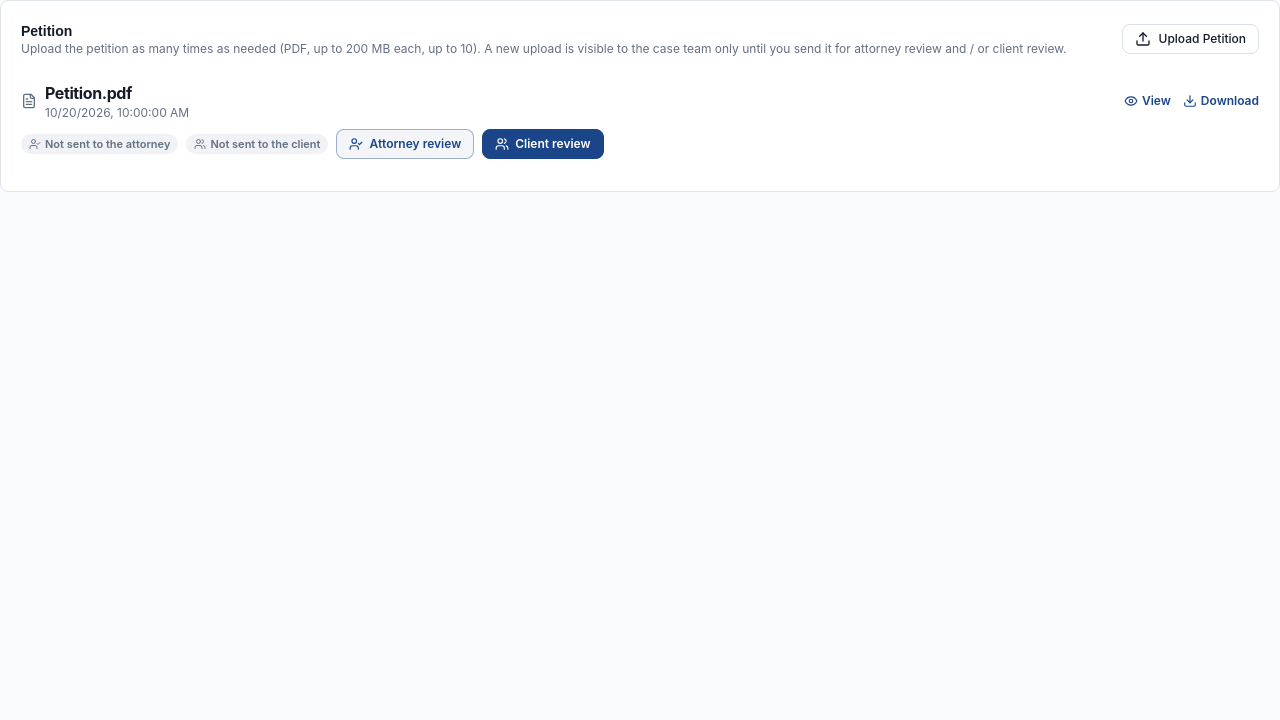
Test case: PetitionUploadPanel › attorney review: asks first in the app's own centred dialog, sends for that petition, reports how many attorneys were told; nothing is sent when the case manage
Click the button "Attorney review".
click(405, 144)  # box [336,129,474,159]
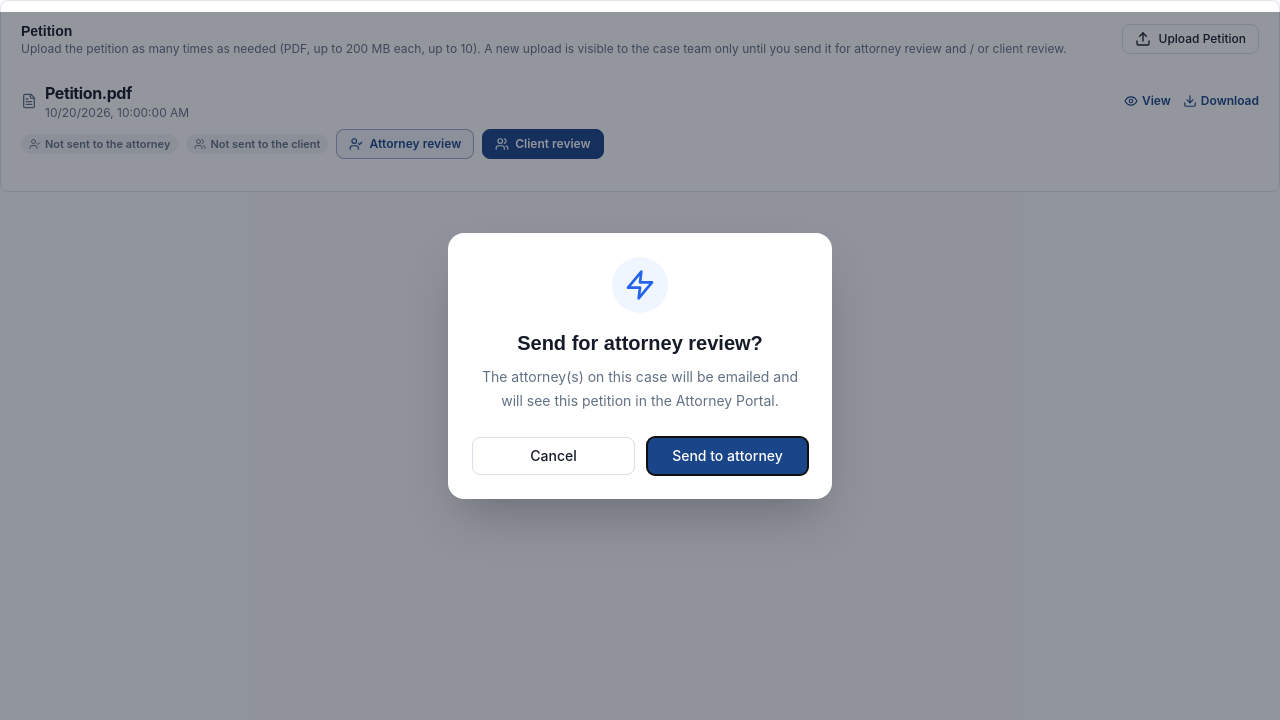
Expected: the heading "Send for attorney review?" is shown, [517,332,763,354]
Click the button "Cancel".
click(554, 456)  # box [472,437,635,475]
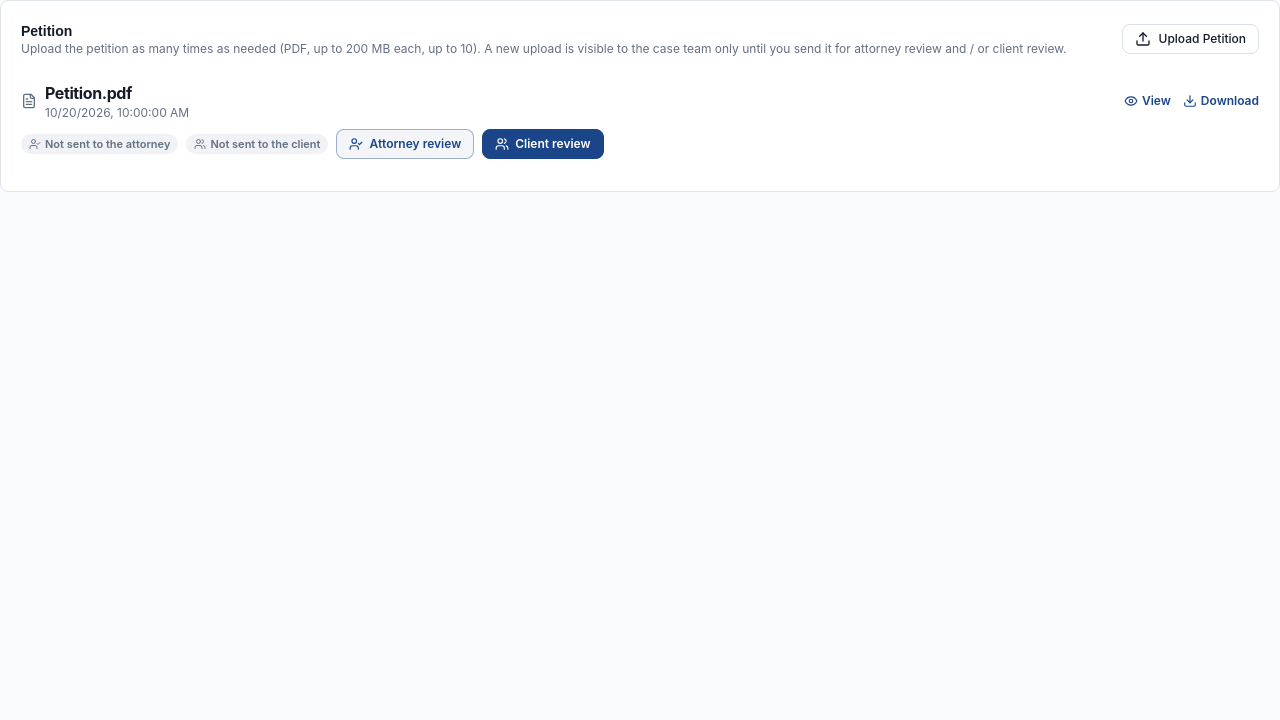
Expected: the dialog is gone
Click the button "Attorney review".
click(405, 144)  # box [336,129,474,159]
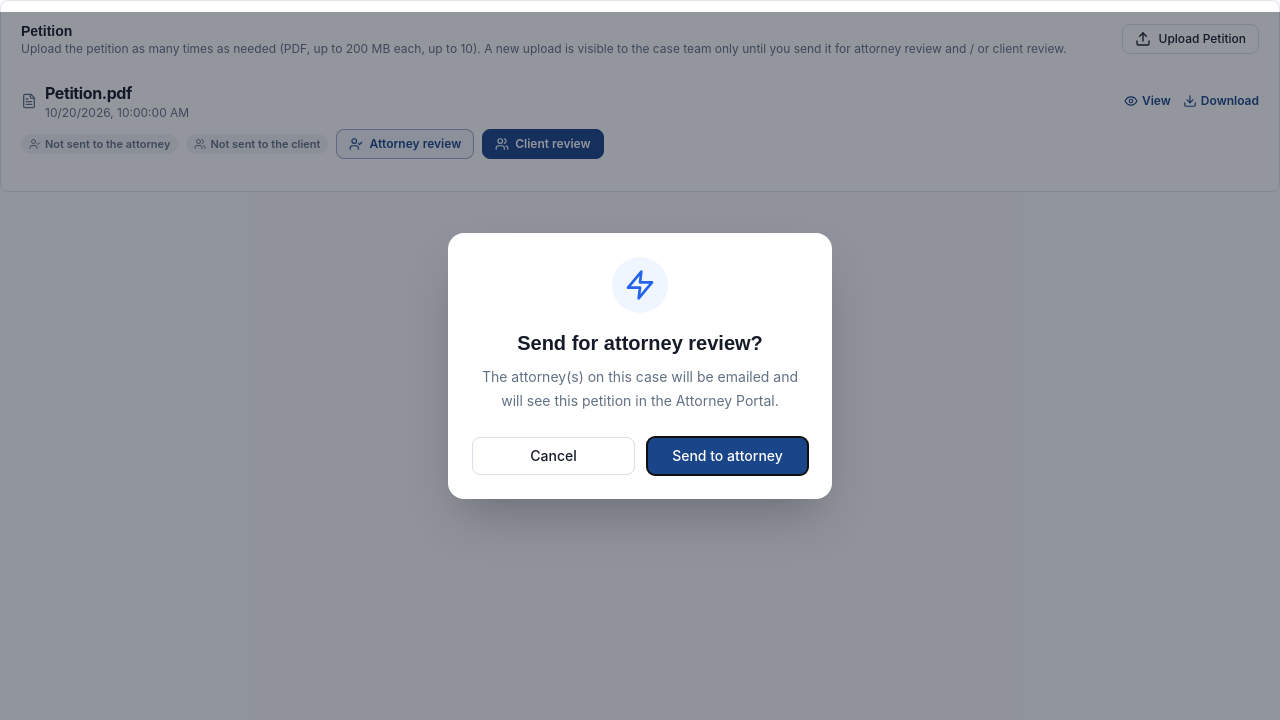
Click the button "Send to attorney".
click(728, 456)  # box [647,437,808,475]
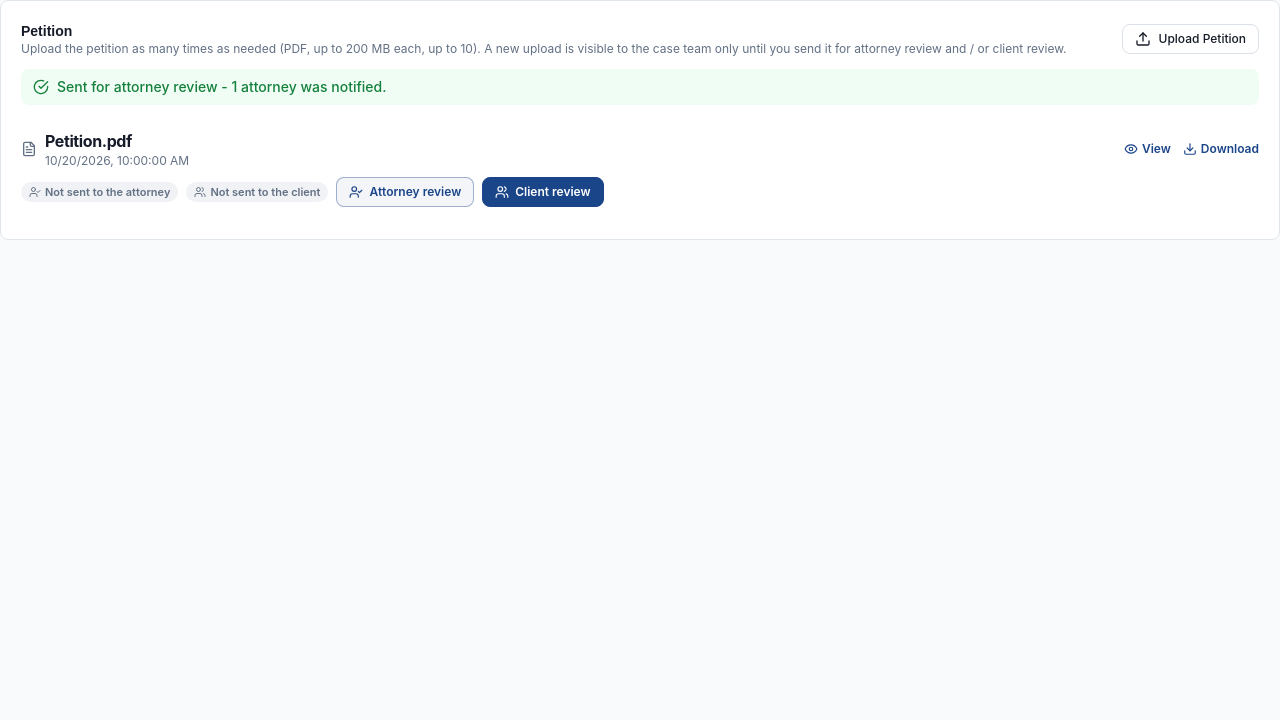
Expected: the text "Sent for attorney review - 1 attorney was notified." is shown, [21,69,1259,105]
